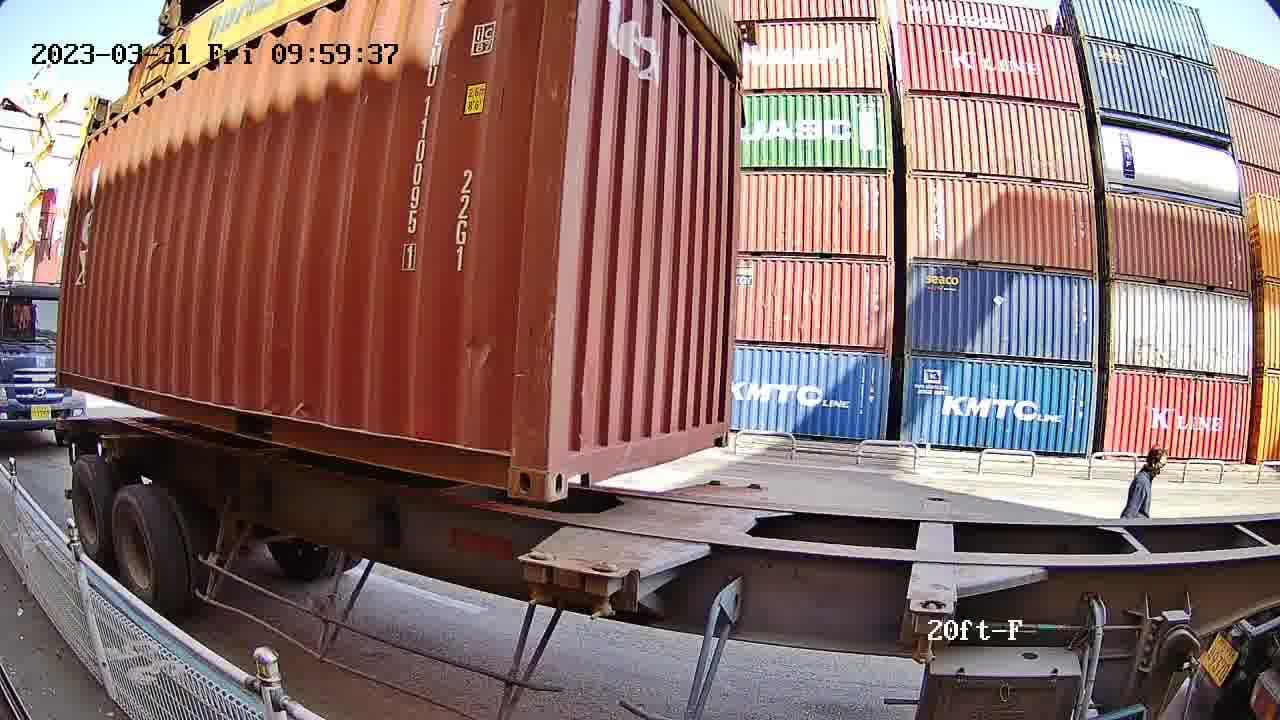Chassis: (523, 481, 726, 566), (585, 486, 764, 574)
Cone: (581, 560, 625, 620), (519, 547, 556, 610)
Hole_L: (546, 430, 595, 503)
Hole_R: (479, 433, 546, 503), (705, 412, 731, 449)
Tire: (112, 487, 167, 608), (71, 461, 110, 558)
